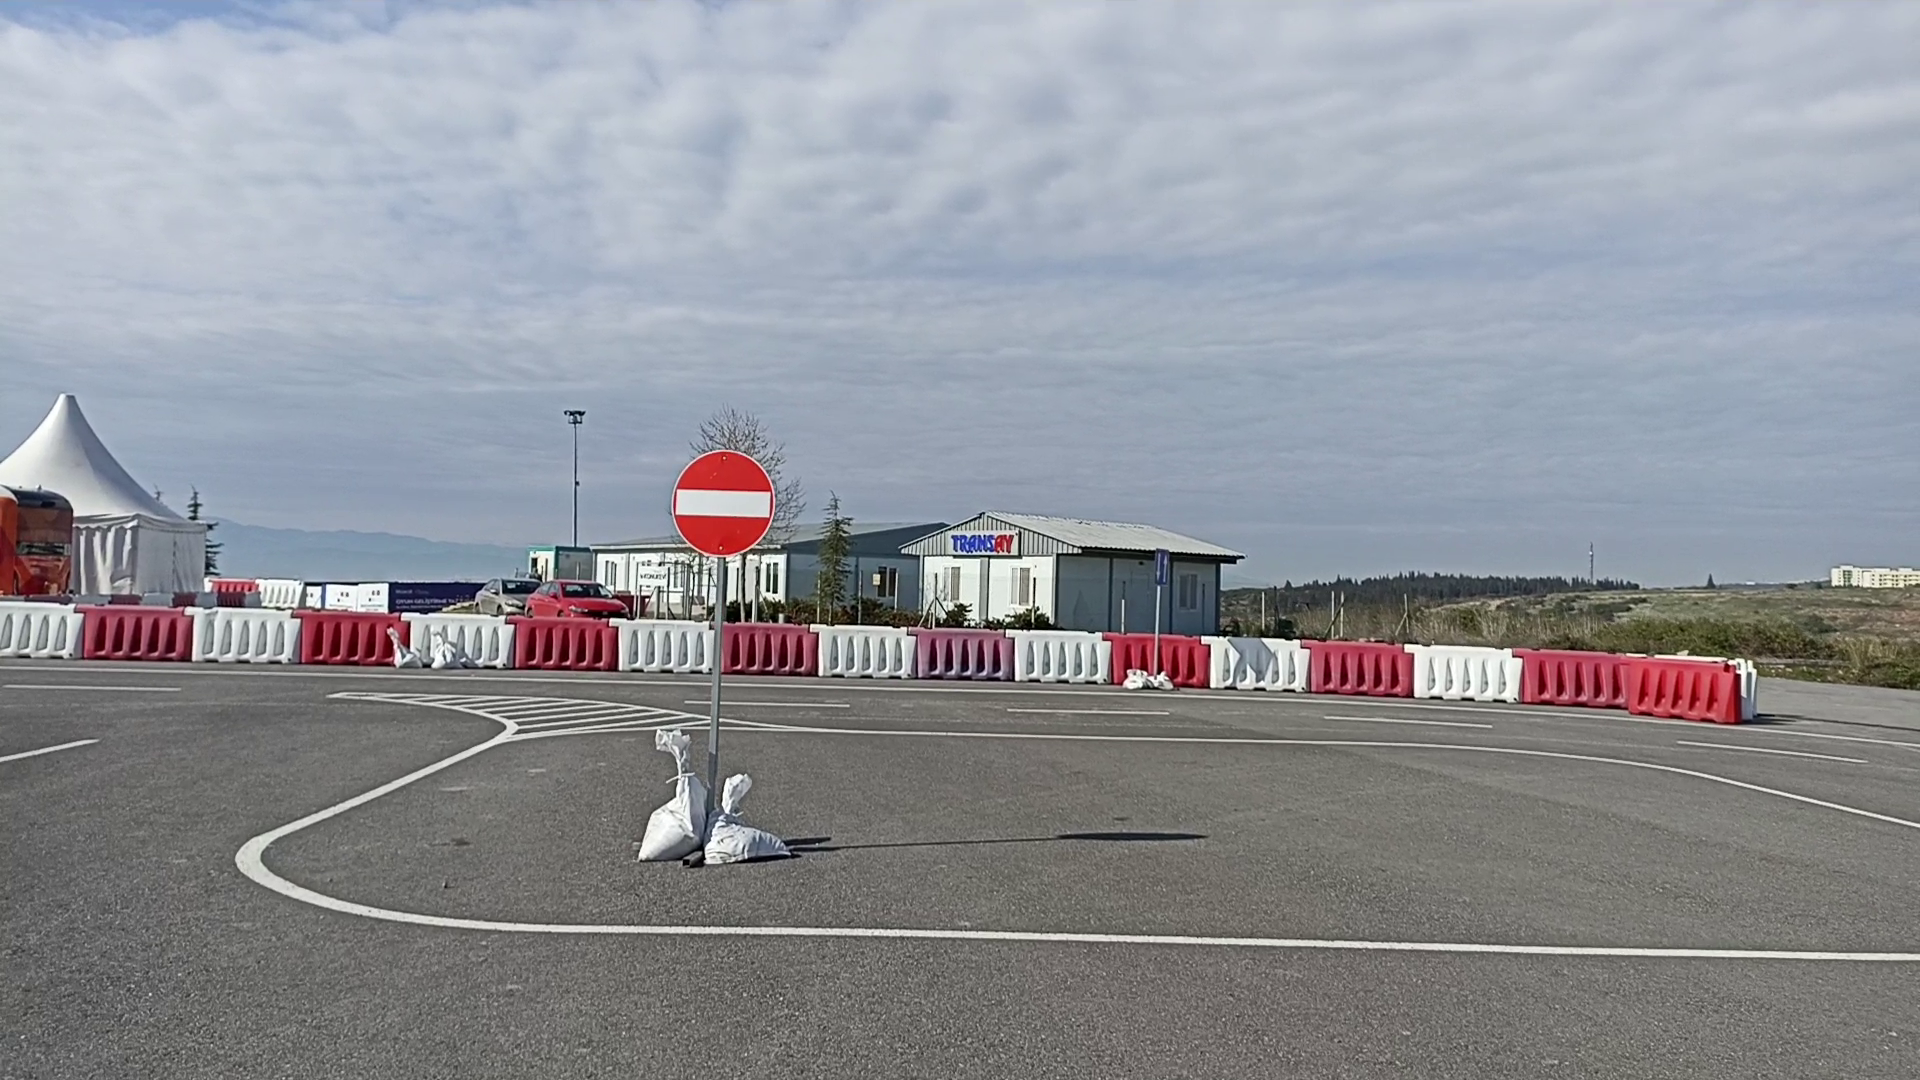noentryway: (669, 447, 778, 558)
